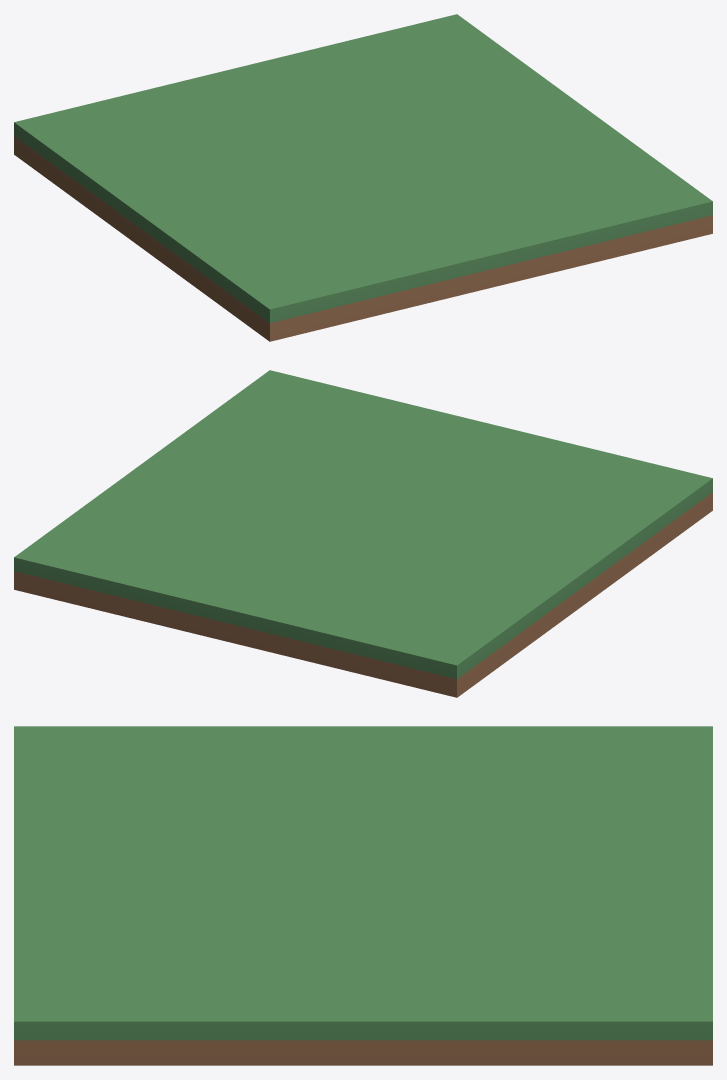
File: land_big.fbx
3 views of the same model, one above another, from view 1: azimuth 30°, elevation 25°; view 2: azimuth 150°, elevation 25°; view 3: azimuth 270°, elevation 25° (orthographic). The views are drawn at different scales.
Visible parts, largest first — view 1: landBig; view 2: landBig; view 3: landBig.
Part boxes in pixels (x1,y1,x2,y2): landBig: (14, 14, 712, 341); landBig: (14, 370, 712, 697); landBig: (14, 726, 712, 1065).
Bounding box in the file's own units: 502 × 35 × 502.
